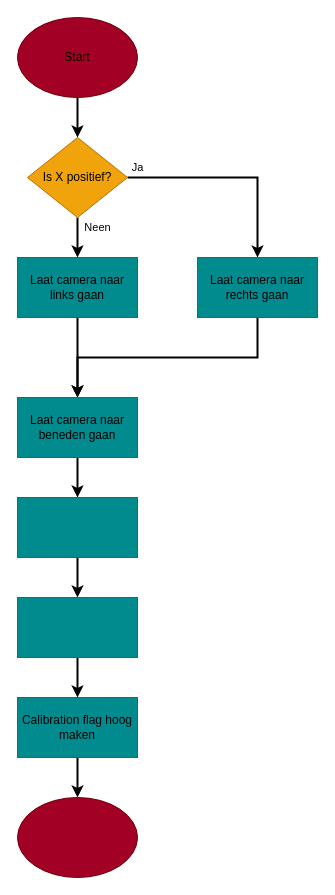
Some shapes in this 335 by 895 pixel diagram are drawn without their labels. Here are the shapes that lost their labels. From the top down, the centre of each, then its label:
At point 77,527: "Stop de motoren".
At point 77,627: "Neem foto".
At point 77,837: "Einde".
